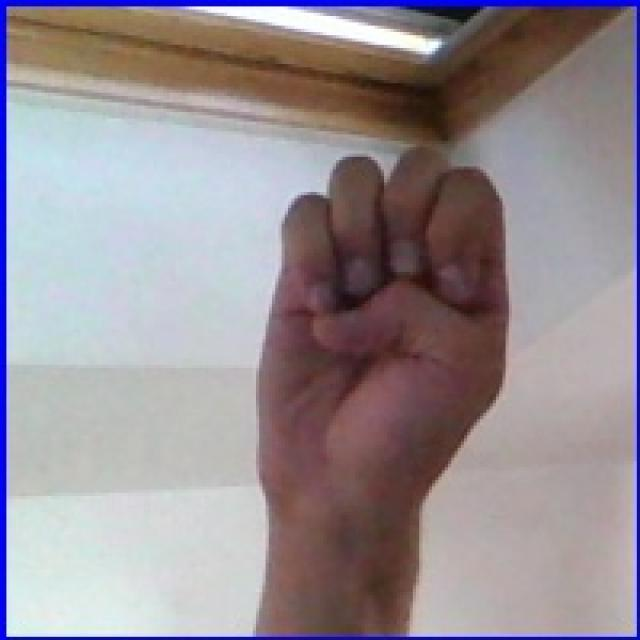Letra E: (232, 114, 523, 571)
